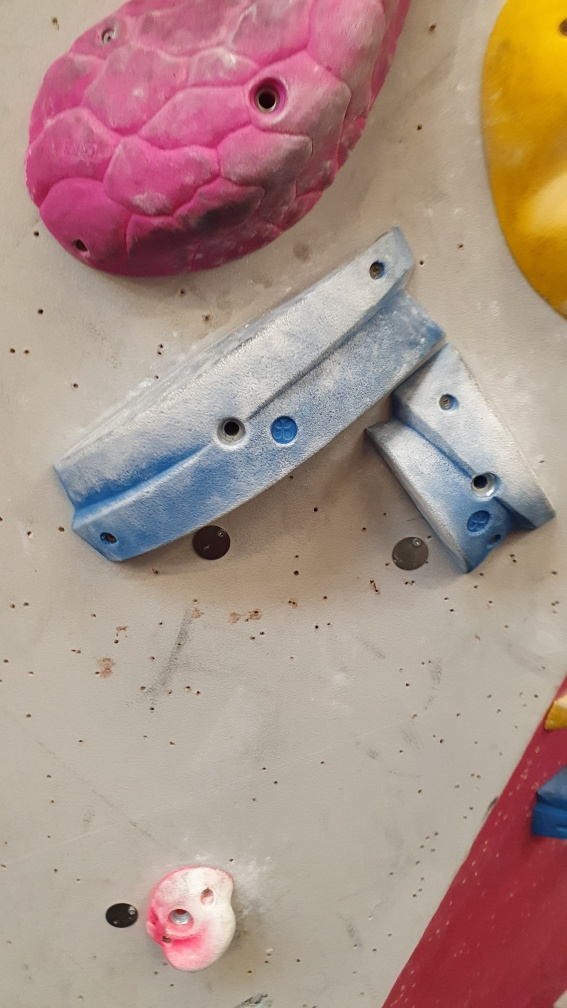Hand Start: (391, 534, 432, 574), (192, 524, 231, 564), (102, 899, 142, 930)
Jug: (148, 863, 243, 977)
Pinch: (54, 228, 452, 570), (366, 347, 557, 568), (527, 766, 567, 849)
